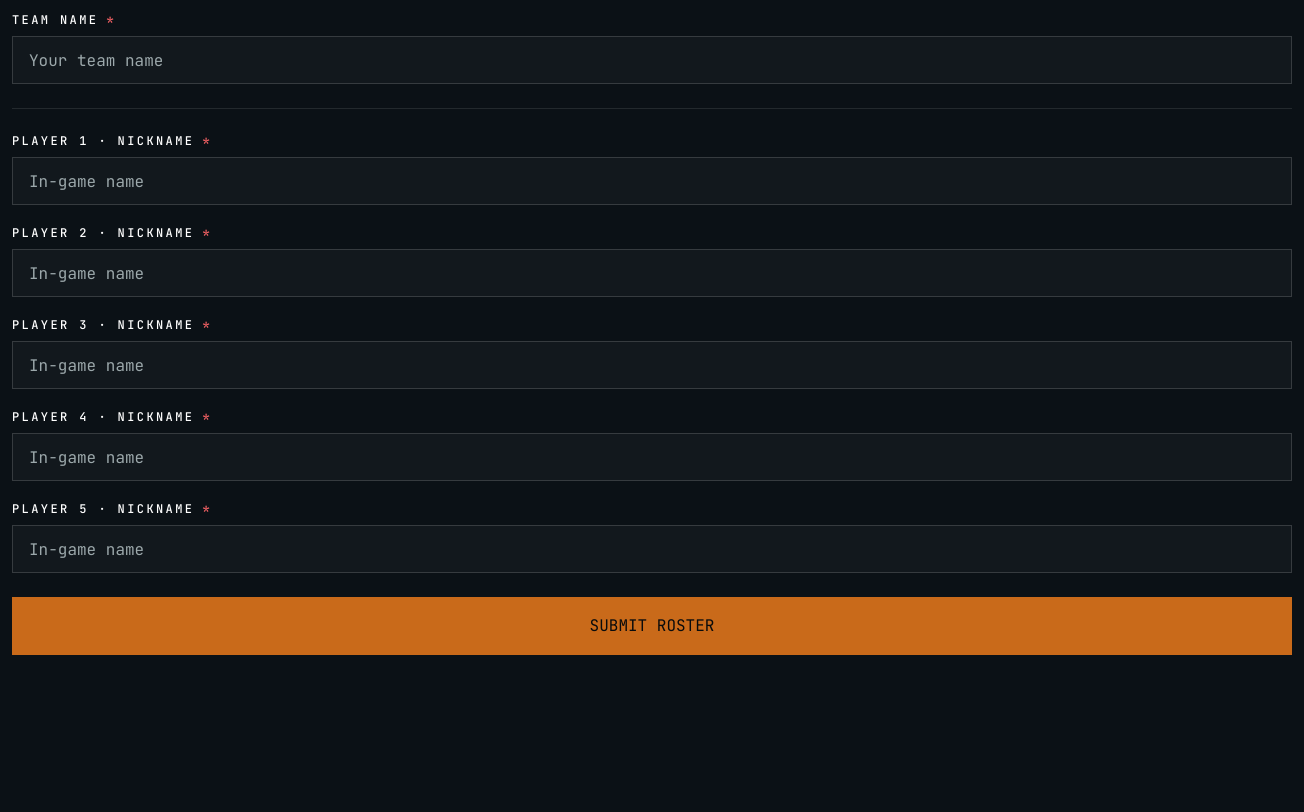
it: RegisterForm component › rejects a roster with two identical nicknames
Type "Phoenix Five" into the field labelled "Team name" at point(652, 60), box [12,36,1292,84]
Type "s1mple" into the field labelled "Player 1 · Nickname" at point(652, 181), box [12,157,1292,205]
Type "ZywOo" into the field labelled "Player 2 · Nickname *" at point(652, 273), box [12,249,1292,297]
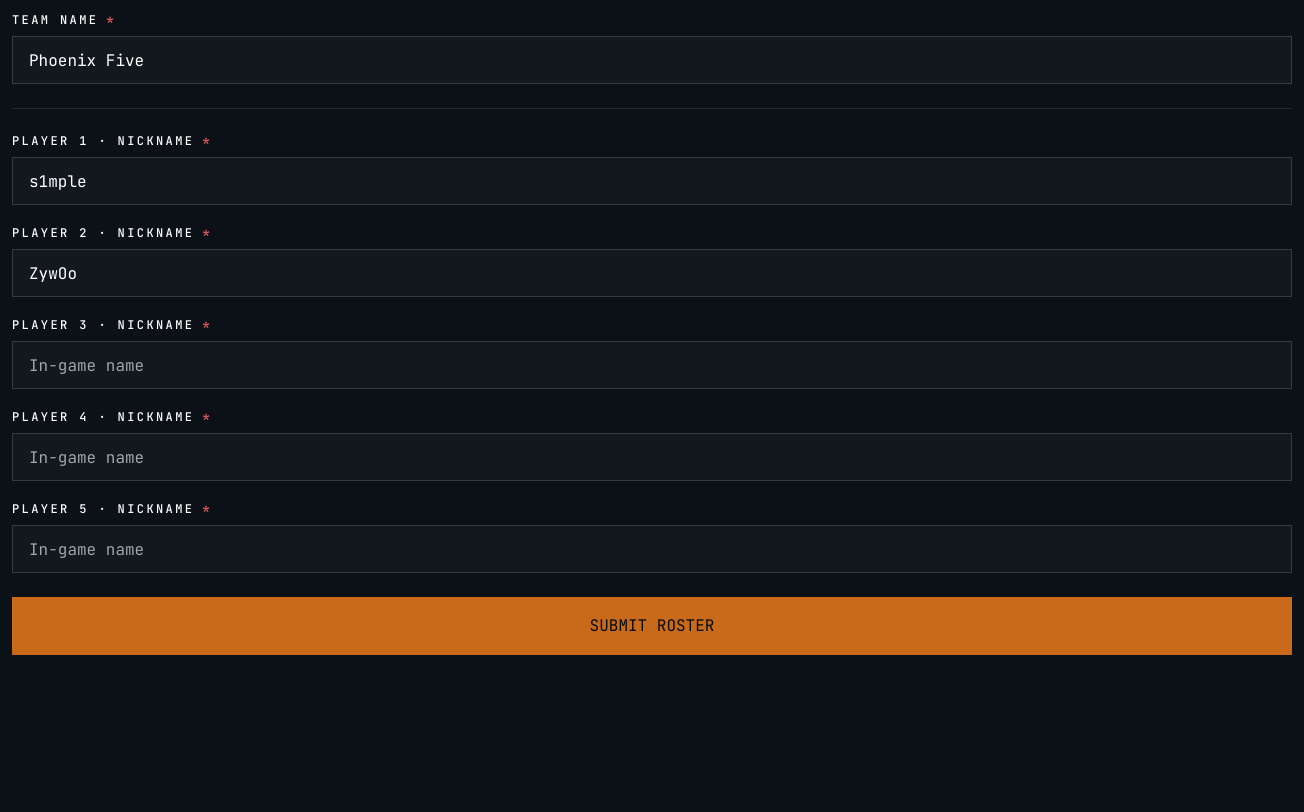
Type "NiKo" into the field labelled "Player 3 · Nickname *" at point(652, 365), box [12,341,1292,389]
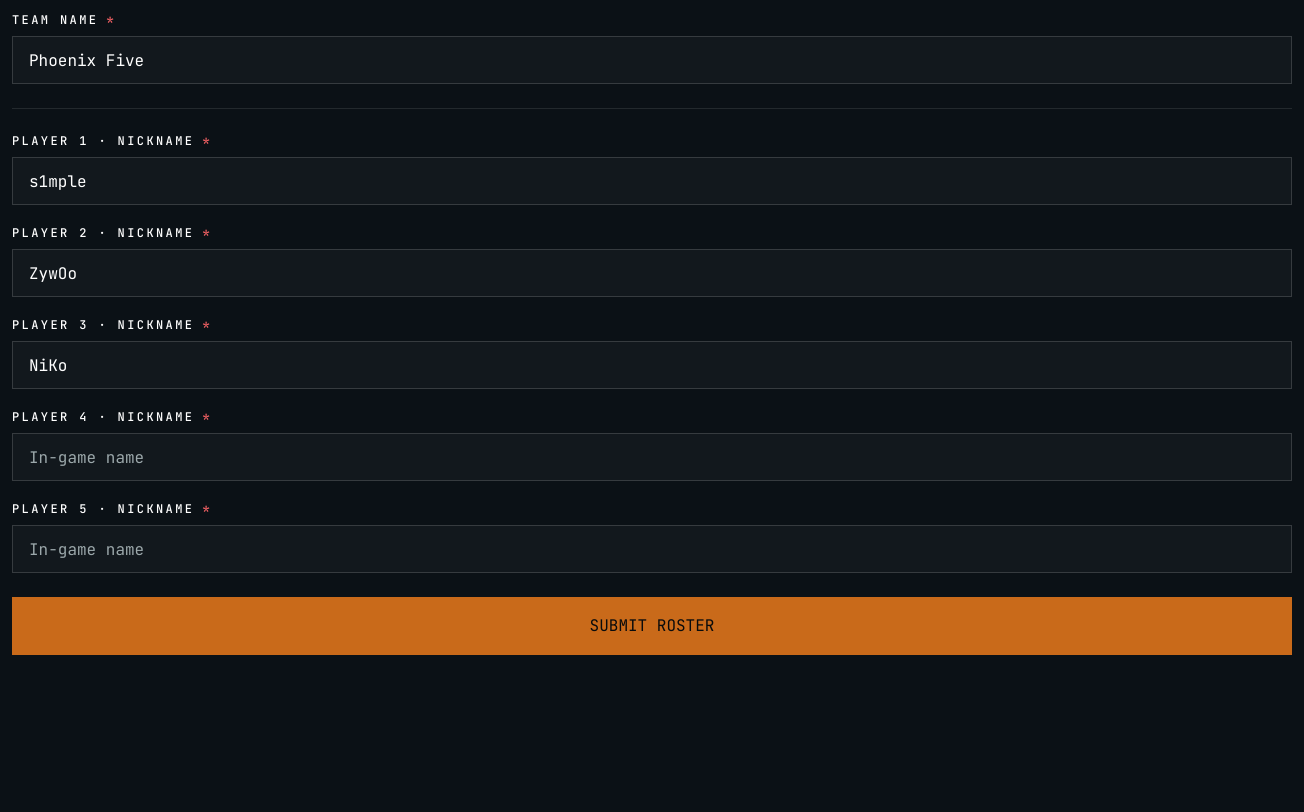
Type "device" into the field labelled "Player 4 · Nickname *" at point(652, 457), box [12,433,1292,481]
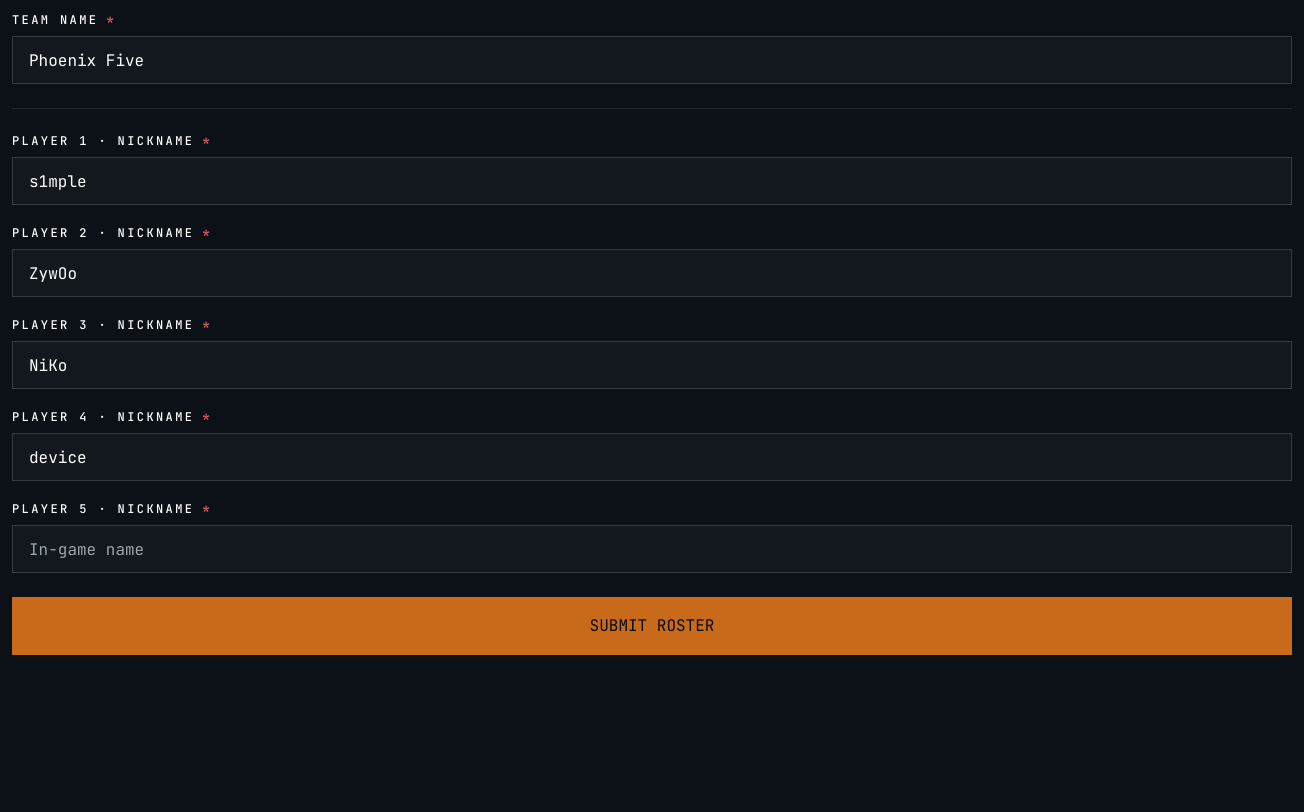
Type "ropz" into the field labelled "Player 5 · Nickname *" at point(652, 549), box [12,525,1292,573]
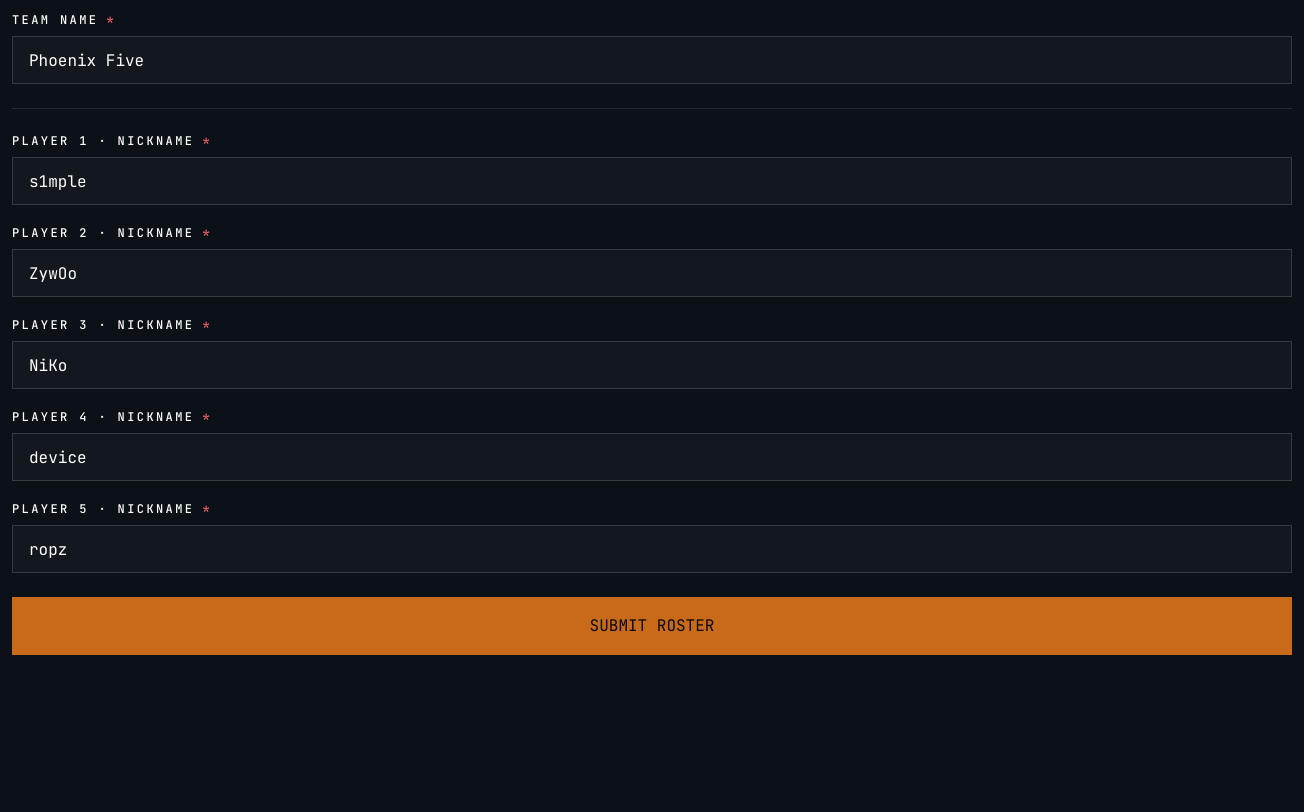
Replace the text in the field labelled "Player 5 · Nickname *" with "S1MPLE" at point(652, 549), box [12,525,1292,573]
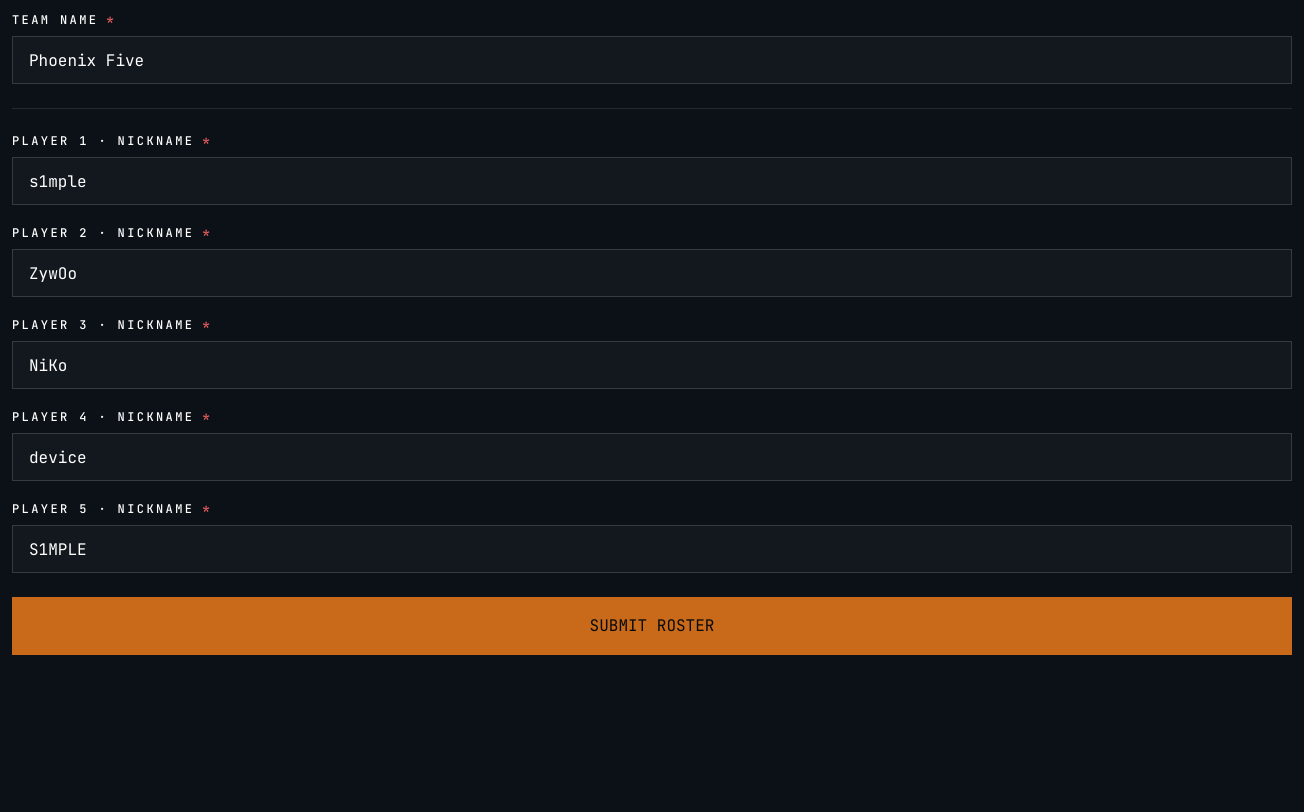
Click the button "Submit roster" at point(652, 626), box [12,597,1292,655]
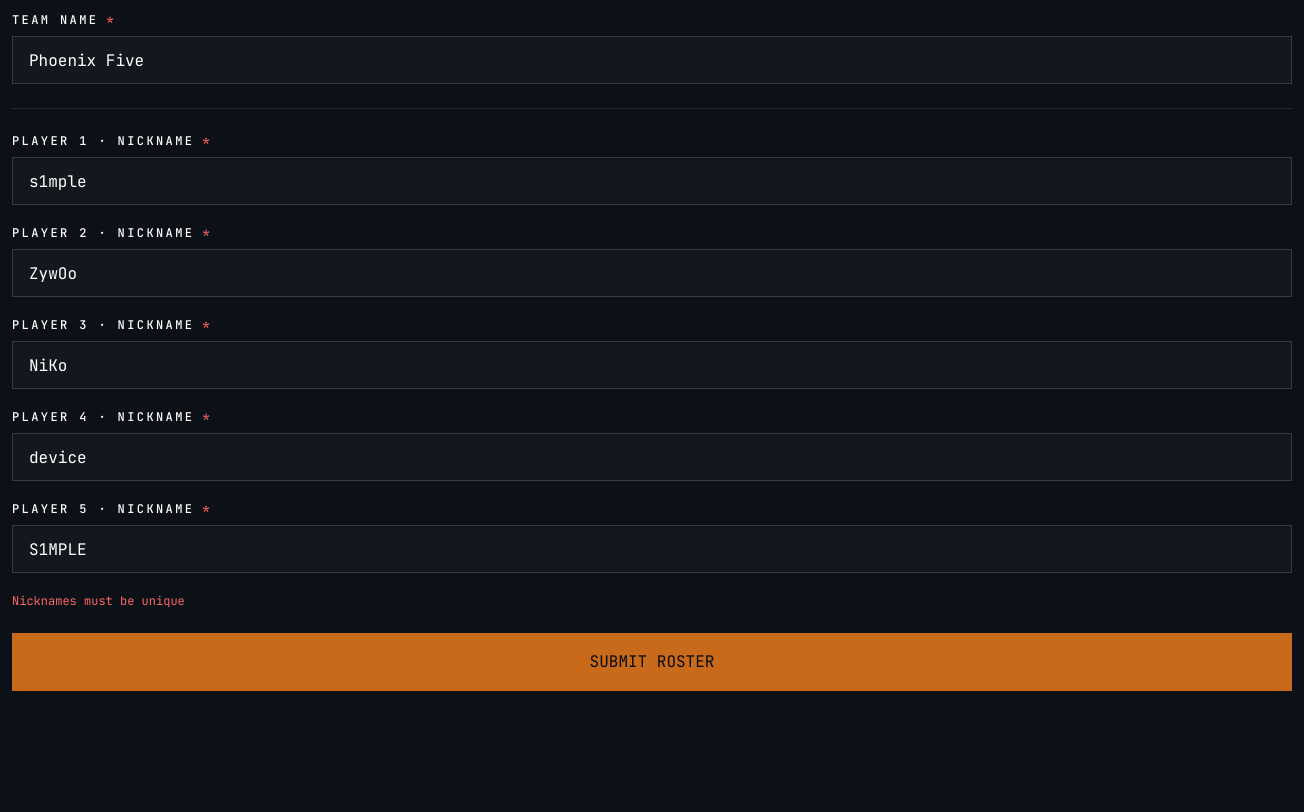
Check: the text "Nicknames must be unique" is shown, box [12,593,185,609]
